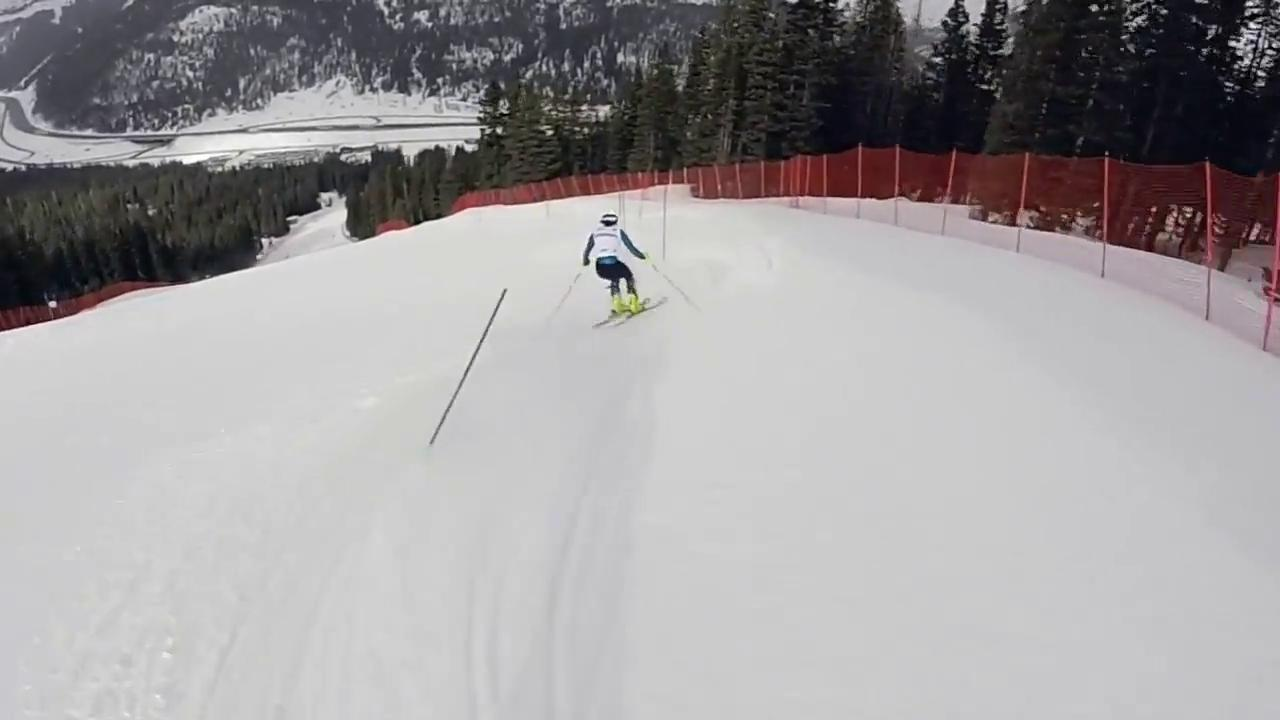gate: (429, 288, 506, 445)
